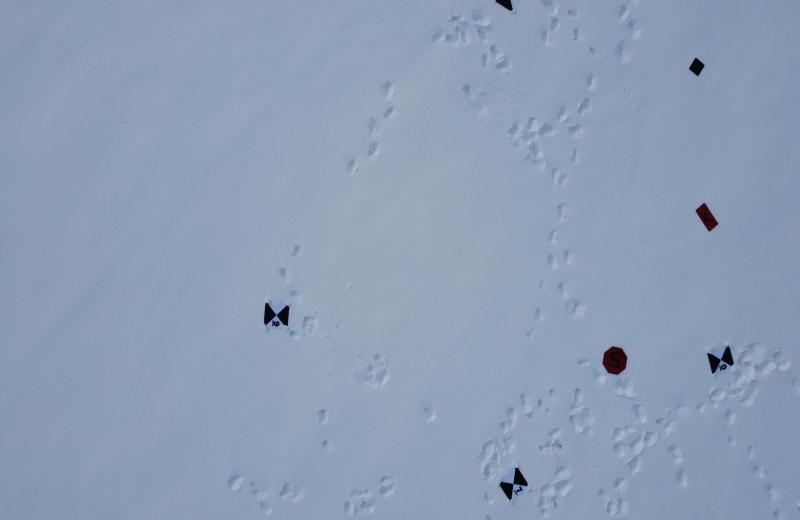Octagon: (599, 342, 630, 376)
Rectangle: (696, 200, 721, 239)
Square: (688, 57, 711, 81)
